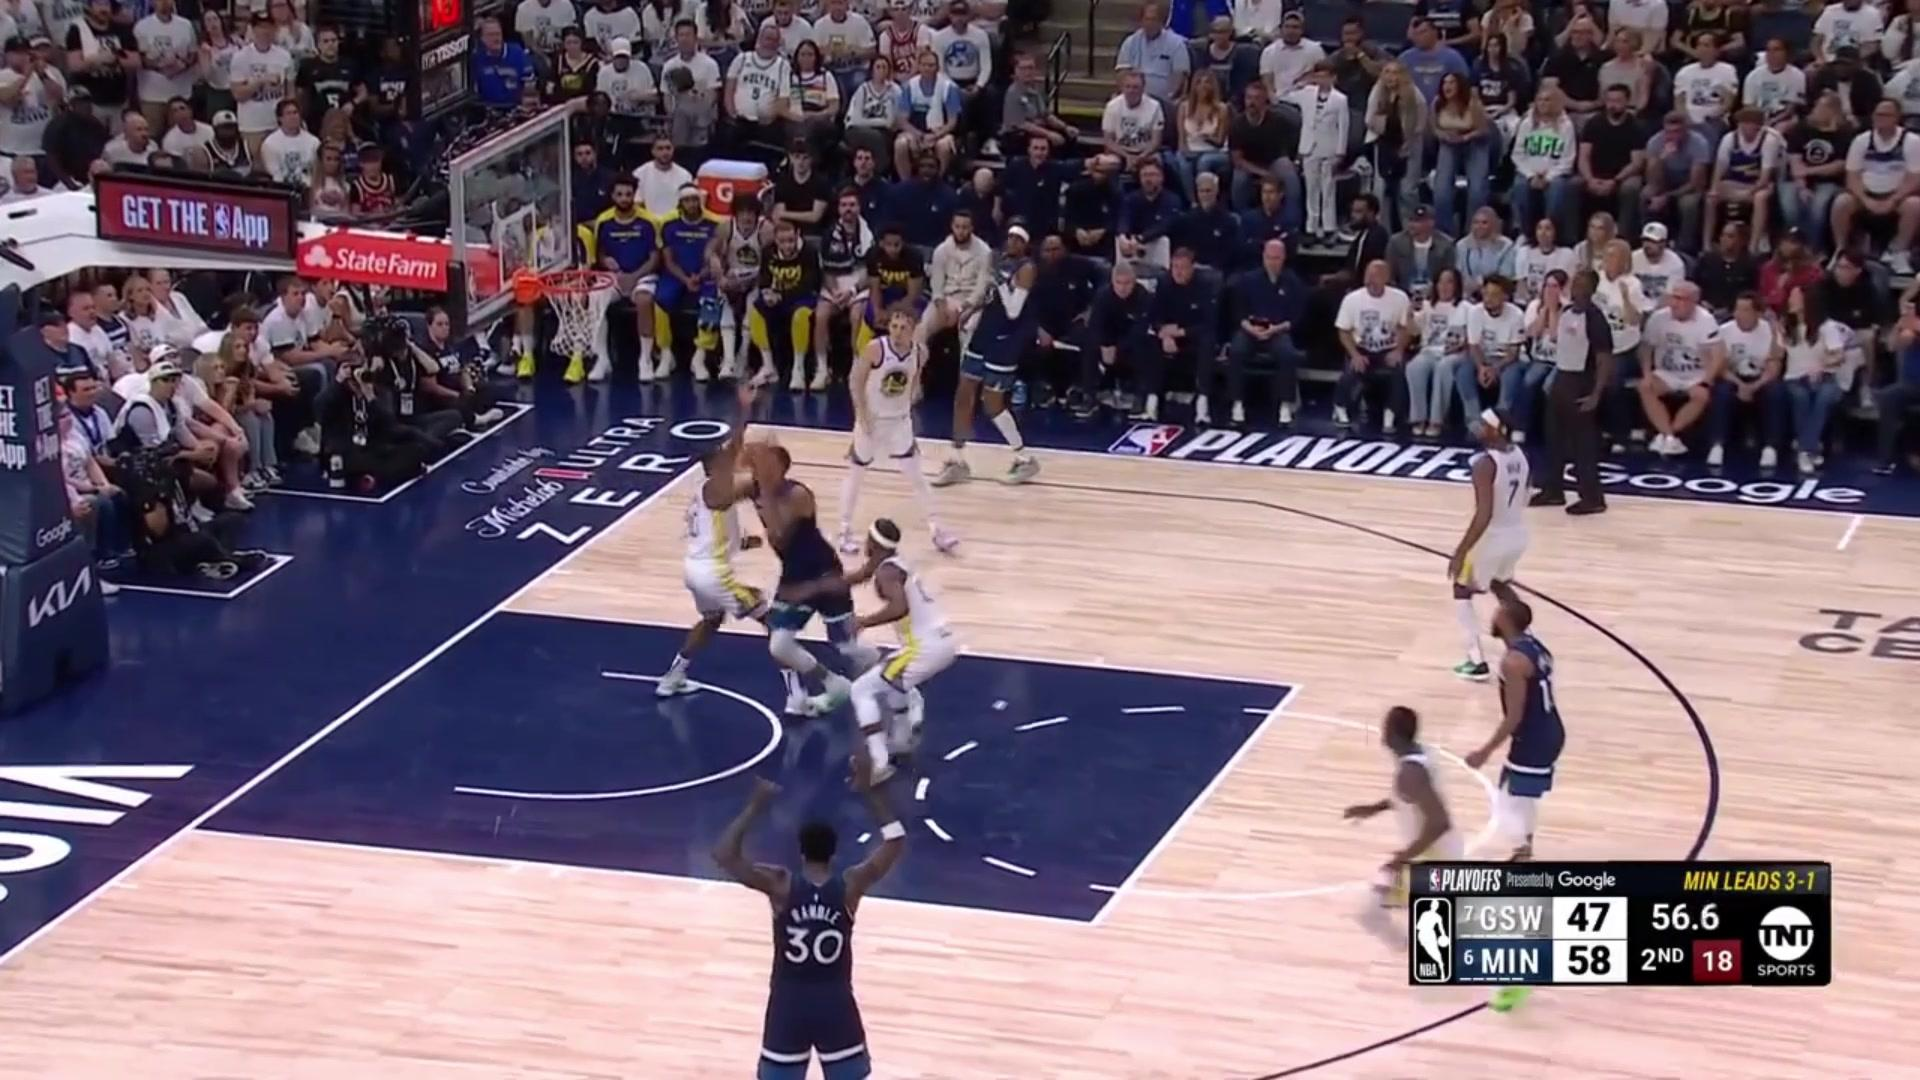no_foul: (674, 430, 862, 678)
